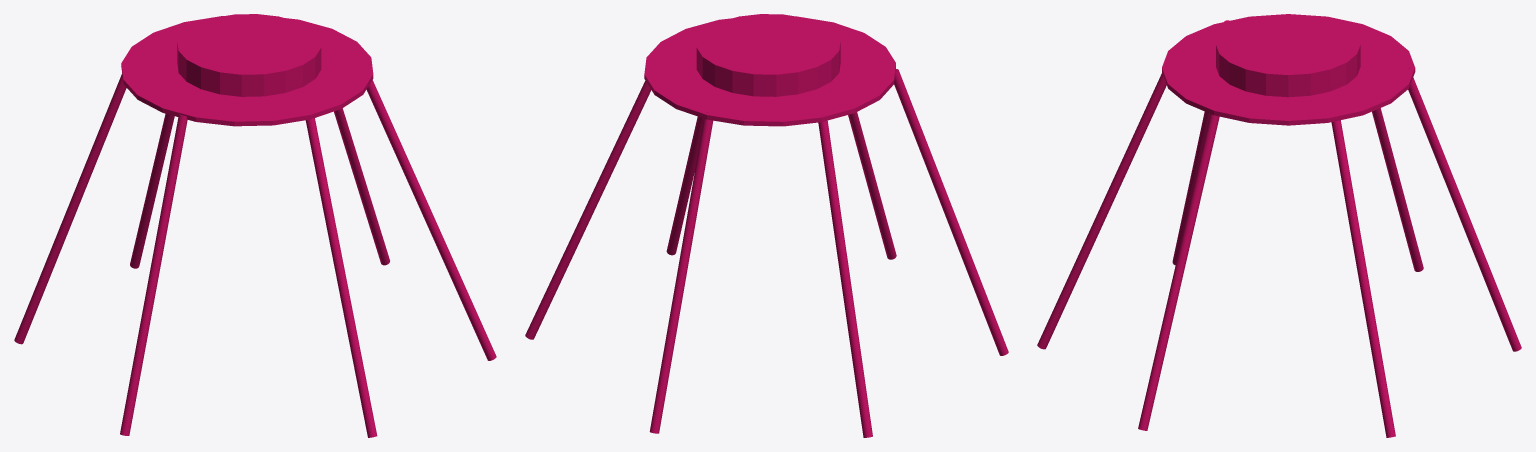
File: collar.obj
The picture shows the model from 3 angles, left to right: view 1: azimuth 30°, elevation 25°; view 2: azimuth 150°, elevation 25°; view 3: azimuth 270°, elevation 25°; orthographic projection.
Visible parts, largest first — view 1: Cylinder.023_Cylinder.030; view 2: Cylinder.023_Cylinder.030; view 3: Cylinder.023_Cylinder.030.
Boxes of the visible parts, x1,y1,x2,y2 form: Cylinder.023_Cylinder.030: (14, 14, 496, 437); Cylinder.023_Cylinder.030: (525, 14, 1008, 437); Cylinder.023_Cylinder.030: (1037, 14, 1521, 437).
Size of the model in its own units: 1.8 by 1.41 by 2.01.
